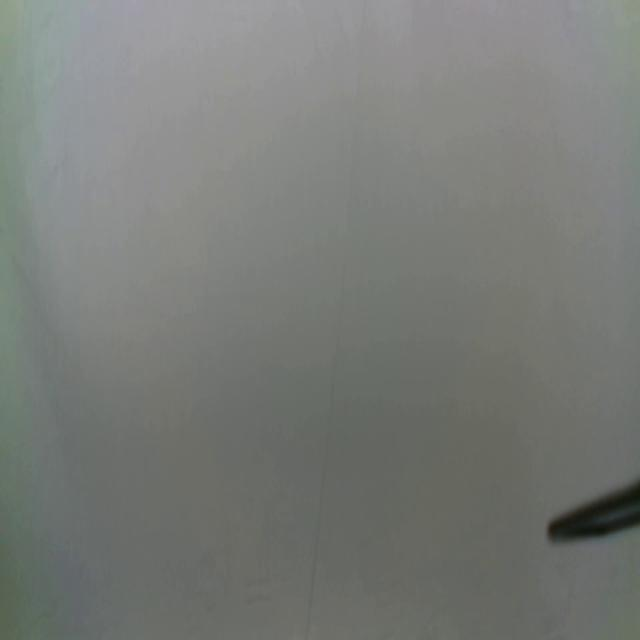crease: (305, 0, 368, 638)
